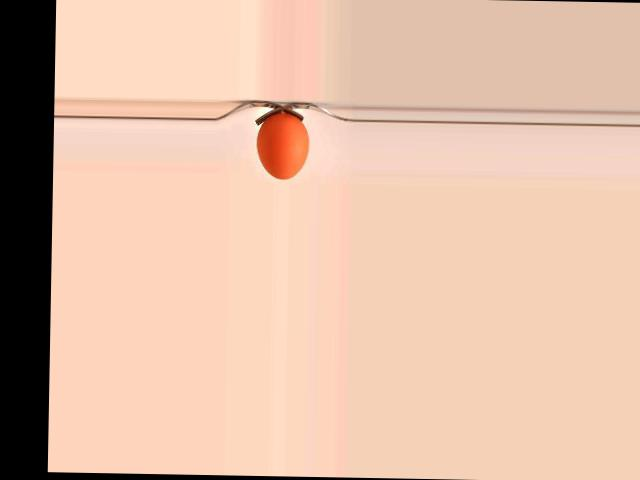egg: (257, 112, 310, 179)
